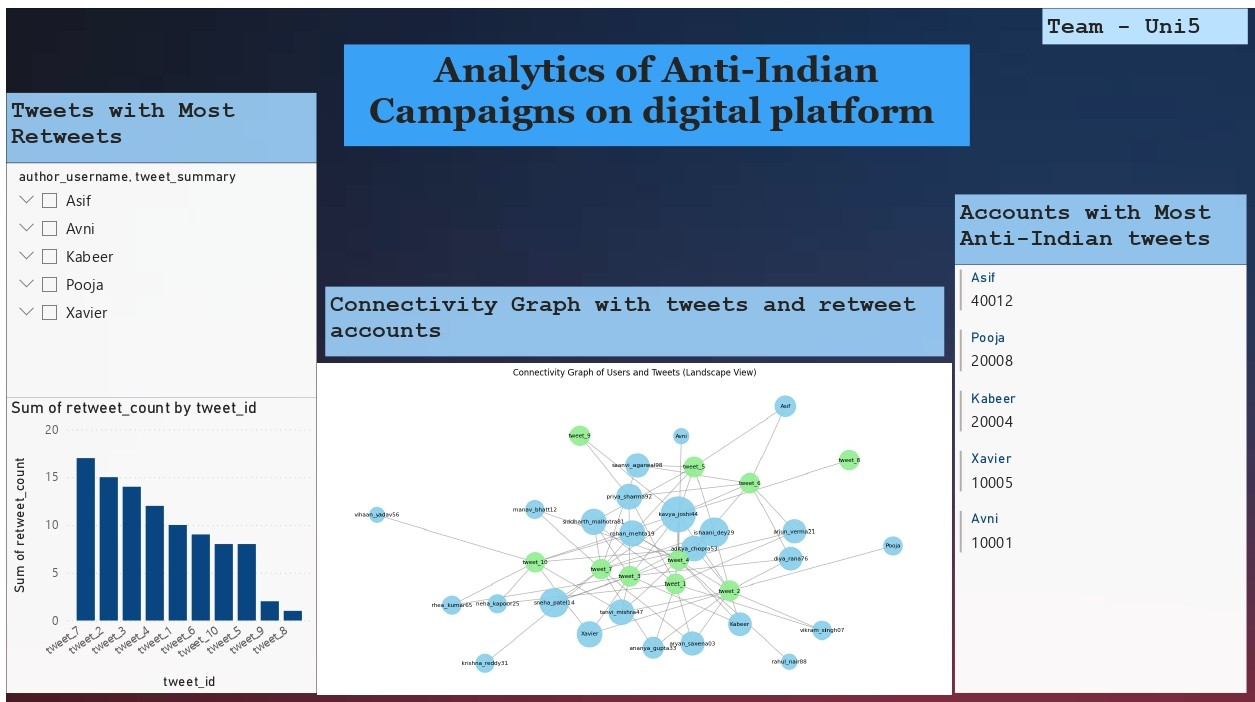

The page's visual inventory and layout, read from the dashboard file:
{"tool":"powerbi","page":{"name":"Page 1","canvas":[1280,720],"ordinal":0},"visuals":[{"type":"textbox","box":[348.3,36.6,645.8,105],"z":0},{"type":"textbox","box":[1068.9,0,211.6,36.6],"z":1000},{"type":"image","box":[316.5,356.3,664.9,361.1],"z":2000},{"type":"columnChart","fields":{"Category":["Sheet1.tweet_id"],"Y":["Sheet1.retweet_count"]},"box":[0,400.8,319.7,305.4],"z":3000},{"type":"multiRowCard","fields":{"Values":["Sheet1.author_id","Sheet1.author_username"]},"box":[979.8,264,300.6,442.2],"z":4000},{"type":"textbox","box":[979.8,192.5,300.6,71.6],"z":5000},{"type":"slicer","fields":{"Values":["Sheet1.author_username","Sheet1.tweet_summary"]},"box":[0,159.1,319.7,241.8],"z":6000},{"type":"textbox","box":[0,87.5,319.7,71.6],"z":7000},{"type":"textbox","box":[329.3,287.9,639.4,71.6],"z":8000}]}

Visuals, with their boxes in screenshot pixels (x1, y1, x2, y2), scaled from the page's 1280x720 canvas onto the 1255x702 screenshot:
textbox: [left=341, top=36, right=975, bottom=138]
textbox: [left=1048, top=0, right=1254, bottom=36]
image: [left=310, top=347, right=962, bottom=699]
columnChart - Sheet1.tweet_id x Sheet1.retweet_count: [left=0, top=391, right=313, bottom=689]
multiRowCard - Sheet1.author_id x Sheet1.author_username: [left=961, top=257, right=1254, bottom=689]
textbox: [left=961, top=188, right=1254, bottom=257]
slicer - Sheet1.author_username x Sheet1.tweet_summary: [left=0, top=155, right=313, bottom=391]
textbox: [left=0, top=85, right=313, bottom=155]
textbox: [left=323, top=281, right=950, bottom=351]
